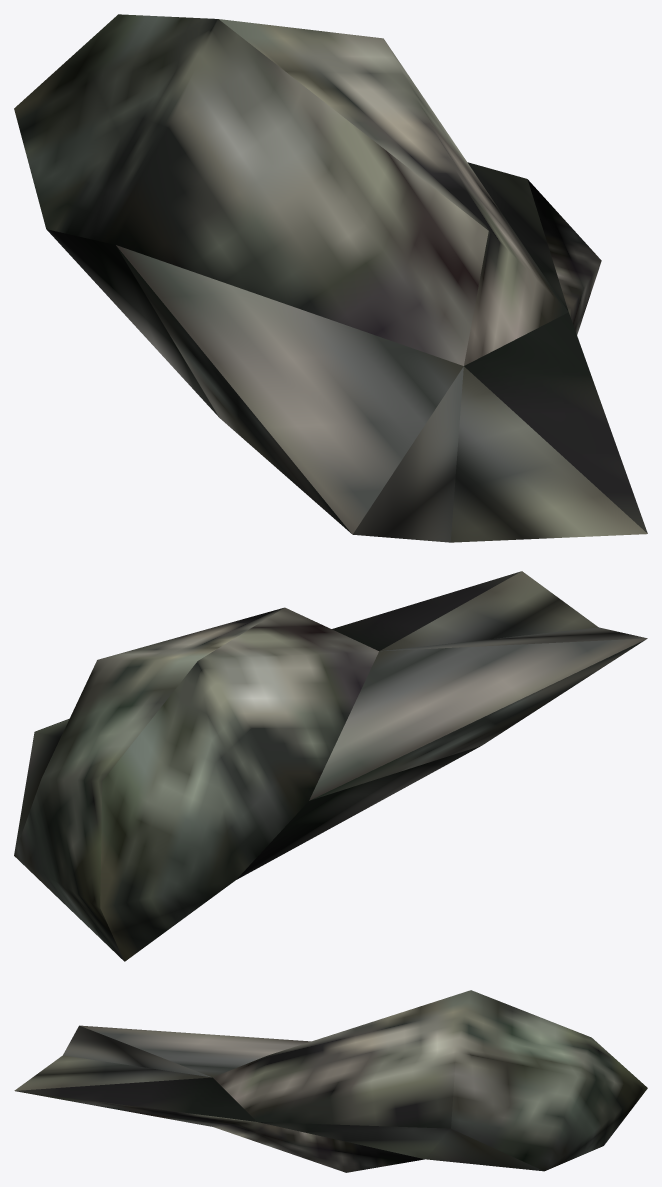
Rendered from droid_fighter_debris_s02_l2.fbx.
The picture shows the model from 3 angles, top to bottom: view 1: azimuth 30°, elevation 25°; view 2: azimuth 150°, elevation 25°; view 3: azimuth 270°, elevation 25°; orthographic projection. The views are drawn at different scales.
Parts seen in each view (by area): view 1: mesh_node; view 2: mesh_node; view 3: mesh_node.
Boxes of the visible parts, x1,y1,x2,y2 form: mesh_node: (14, 14, 647, 542); mesh_node: (14, 571, 647, 961); mesh_node: (14, 990, 647, 1172).
Bounding box in the file's own units: 2.06 × 1.21 × 4.28.
1 material, 1 textured.
